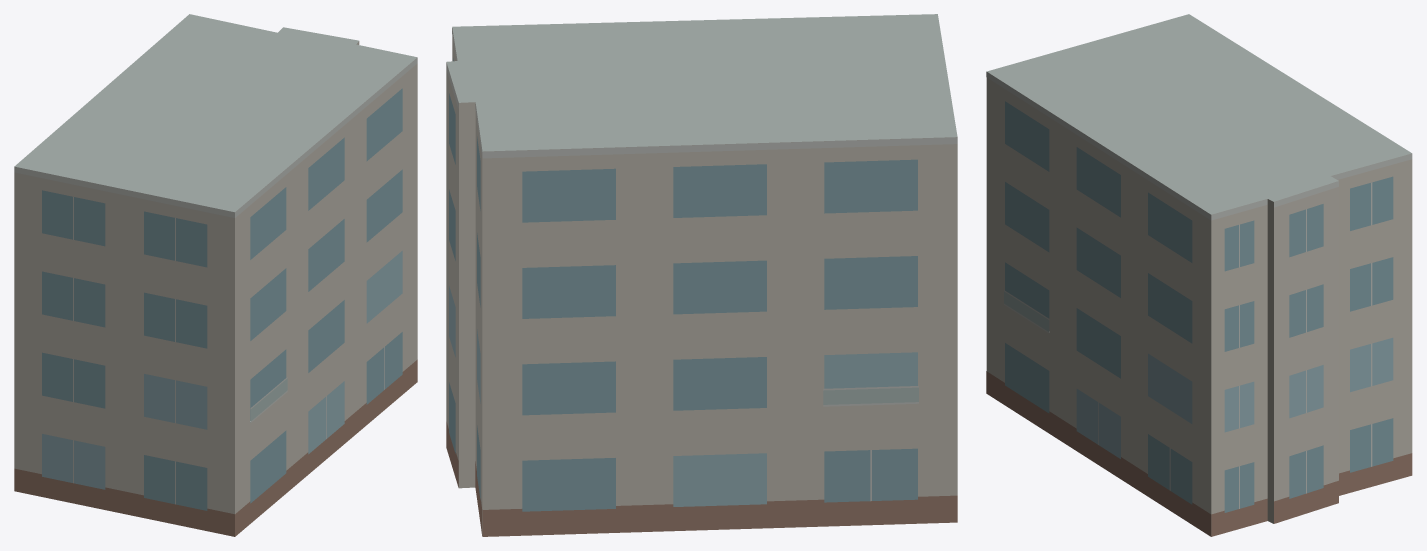
The model's file is survey-upis-32747359.glb.
3 views of the same model, side by side, from view 1: azimuth 30°, elevation 25°; view 2: azimuth 150°, elevation 25°; view 3: azimuth 270°, elevation 25° (orthographic). The views are drawn at different scales.
Visible parts, largest first — view 1: survey-upis-32747359.tmp; view 2: survey-upis-32747359.tmp; view 3: survey-upis-32747359.tmp.
Part boxes in pixels (bbox=[...]): survey-upis-32747359.tmp: bbox=[14, 14, 417, 536]; survey-upis-32747359.tmp: bbox=[446, 14, 957, 536]; survey-upis-32747359.tmp: bbox=[986, 14, 1412, 536].
Size of the model in its own units: 18.05 by 13.5 by 16.18.
